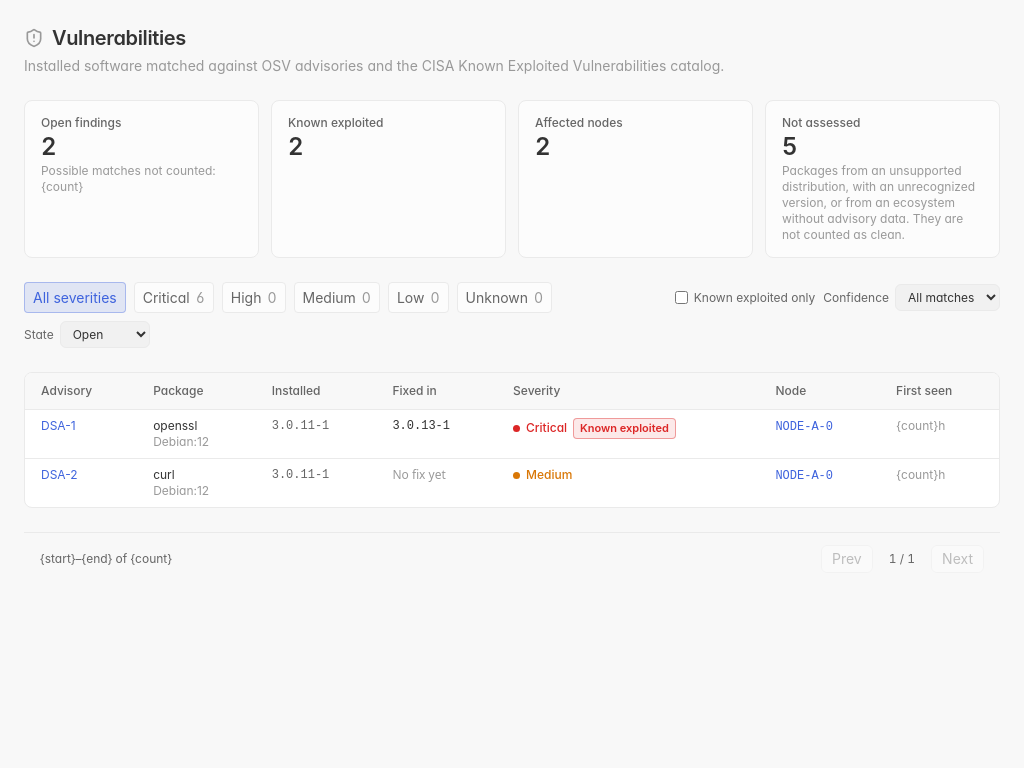
it: VulnerabilitiesPage › filters by confidence, starting from the first page
Select "Possible" in the dropdown labelled "Confidence" at (948, 298), box [895,284,1000,311]
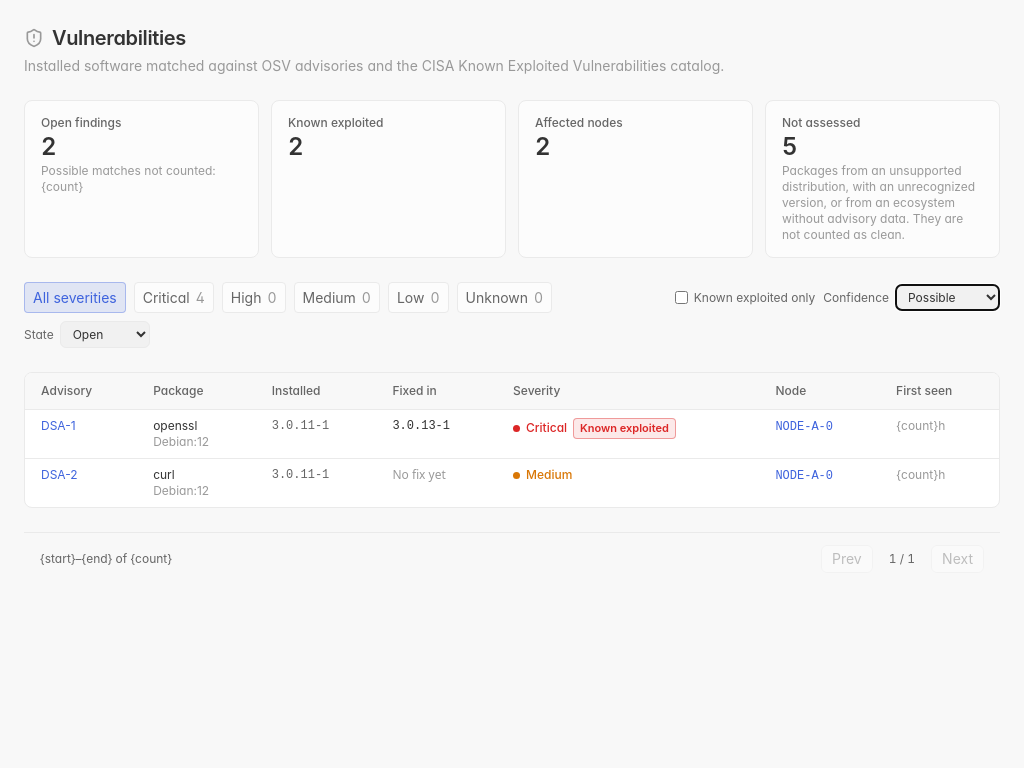
Result: the button "Critical 4" is shown at [134,282,214,313]
